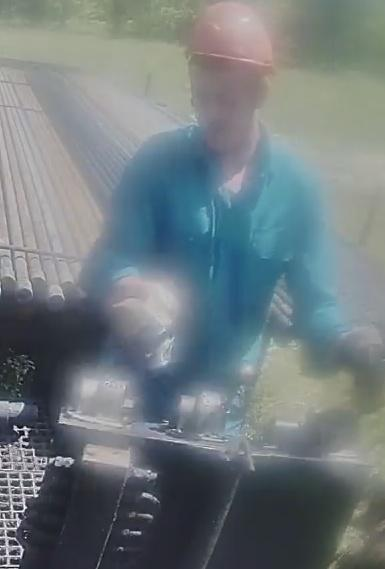gloves: (103, 266, 186, 375), (323, 318, 385, 410)
helmet: (182, 2, 278, 72)
vest: (95, 123, 341, 369)
